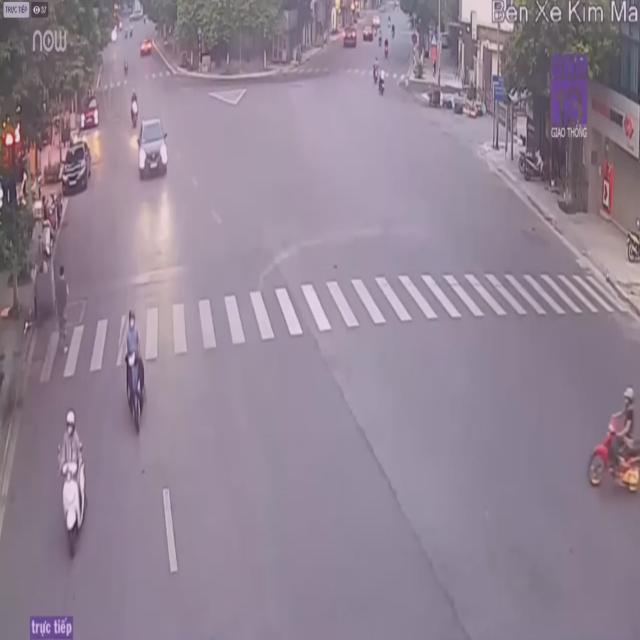car: (135, 117, 170, 182)
motorbike: (588, 386, 640, 498), (55, 407, 89, 554), (125, 312, 148, 429)
